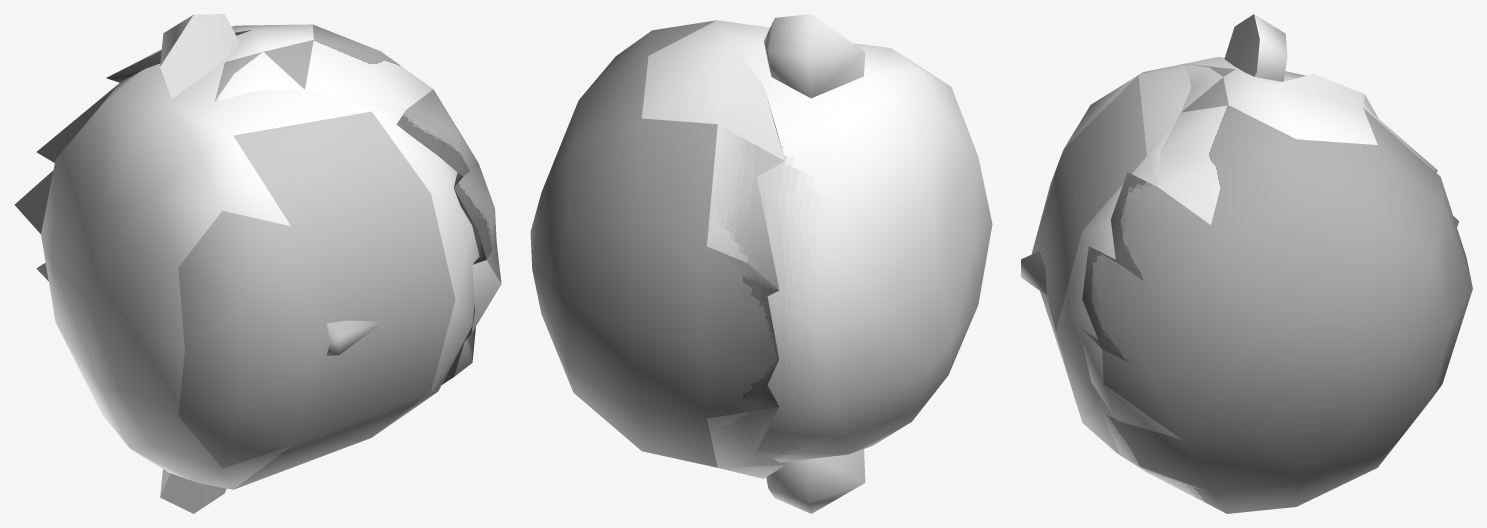
File: girl13a.dae
3 views of the same model, side by side, from view 1: azimuth 30°, elevation 25°; view 2: azimuth 150°, elevation 25°; view 3: azimuth 270°, elevation 25° (orthographic). The views are drawn at different scales.
Parts seen in each view (by area): view 1: vsn_mesh_1_, vsn_mesh_0_, vsn_mesh_2_; view 2: vsn_mesh_1_; view 3: vsn_mesh_1_, vsn_mesh_0_.
Boxes of the visible parts, left/top/right/bottom form: vsn_mesh_1_: left=14, top=14, right=501, bottom=513; vsn_mesh_0_: left=233, top=111, right=455, bottom=489; vsn_mesh_2_: left=178, top=210, right=317, bottom=468; vsn_mesh_1_: left=530, top=14, right=992, bottom=513; vsn_mesh_1_: left=1056, top=14, right=1472, bottom=513; vsn_mesh_0_: left=1021, top=75, right=1146, bottom=414.
Size of the model in its own units: 21.05 by 26.71 by 22.57.
